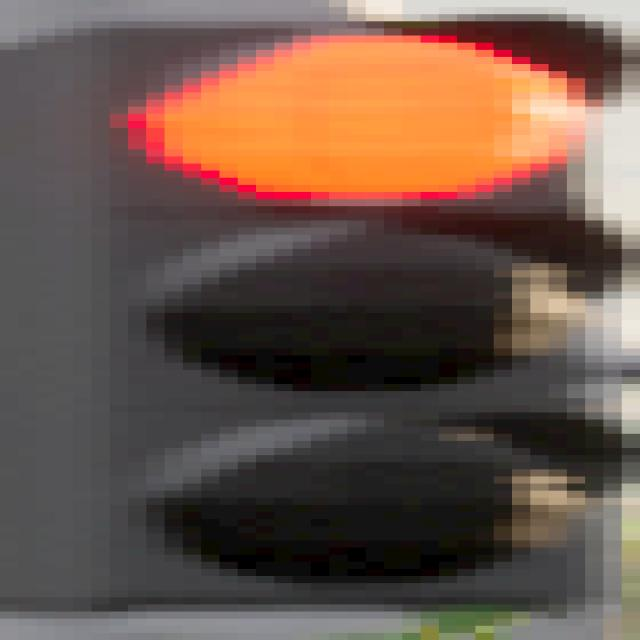red_light: (5, 20, 640, 609)
